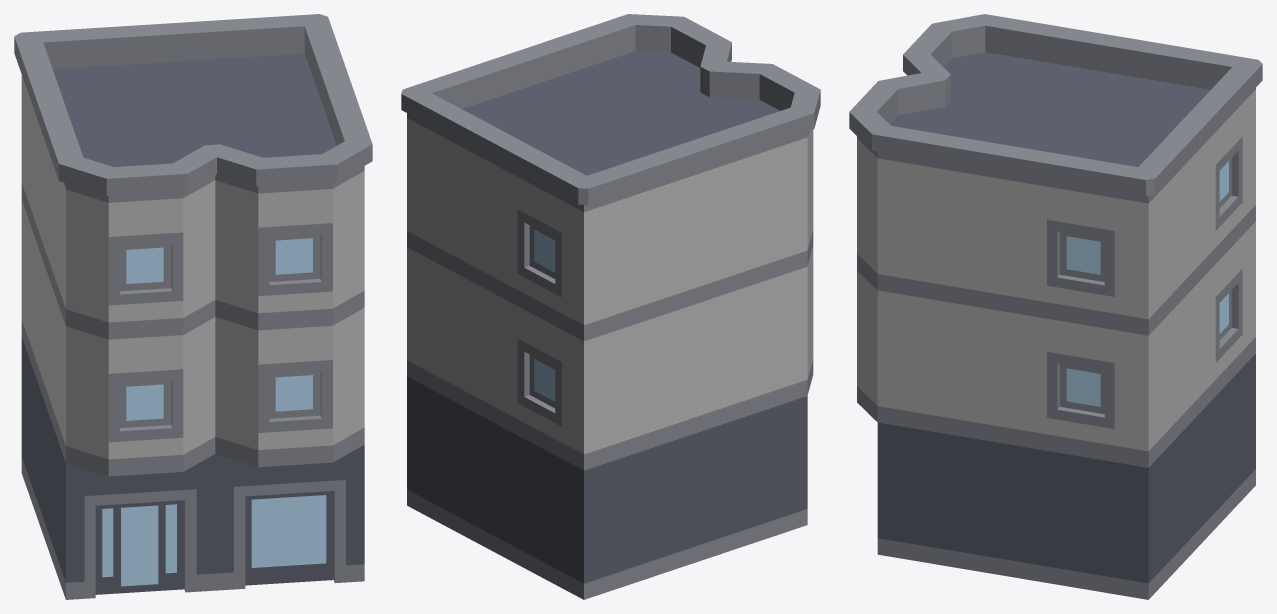
The model's file is variant_22.fbx.
3 views of the same model, side by side, from view 1: azimuth 30°, elevation 25°; view 2: azimuth 150°, elevation 25°; view 3: azimuth 270°, elevation 25° (orthographic). The views are drawn at different scales.
Parts seen in each view (by area): view 1: small_buildingA; view 2: small_buildingA; view 3: small_buildingA.
Boxes of the visible parts, x1,y1,x2,y2 form: small_buildingA: [14, 14, 372, 599]; small_buildingA: [401, 14, 820, 599]; small_buildingA: [849, 14, 1262, 599].
Size of the model in its own units: 108 by 128 by 113.
